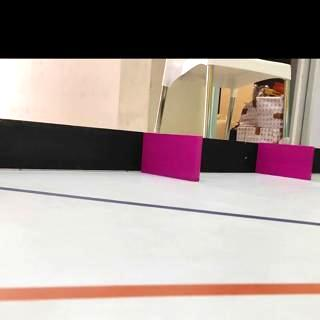xparking: (146, 136, 199, 179), (262, 146, 312, 178)
